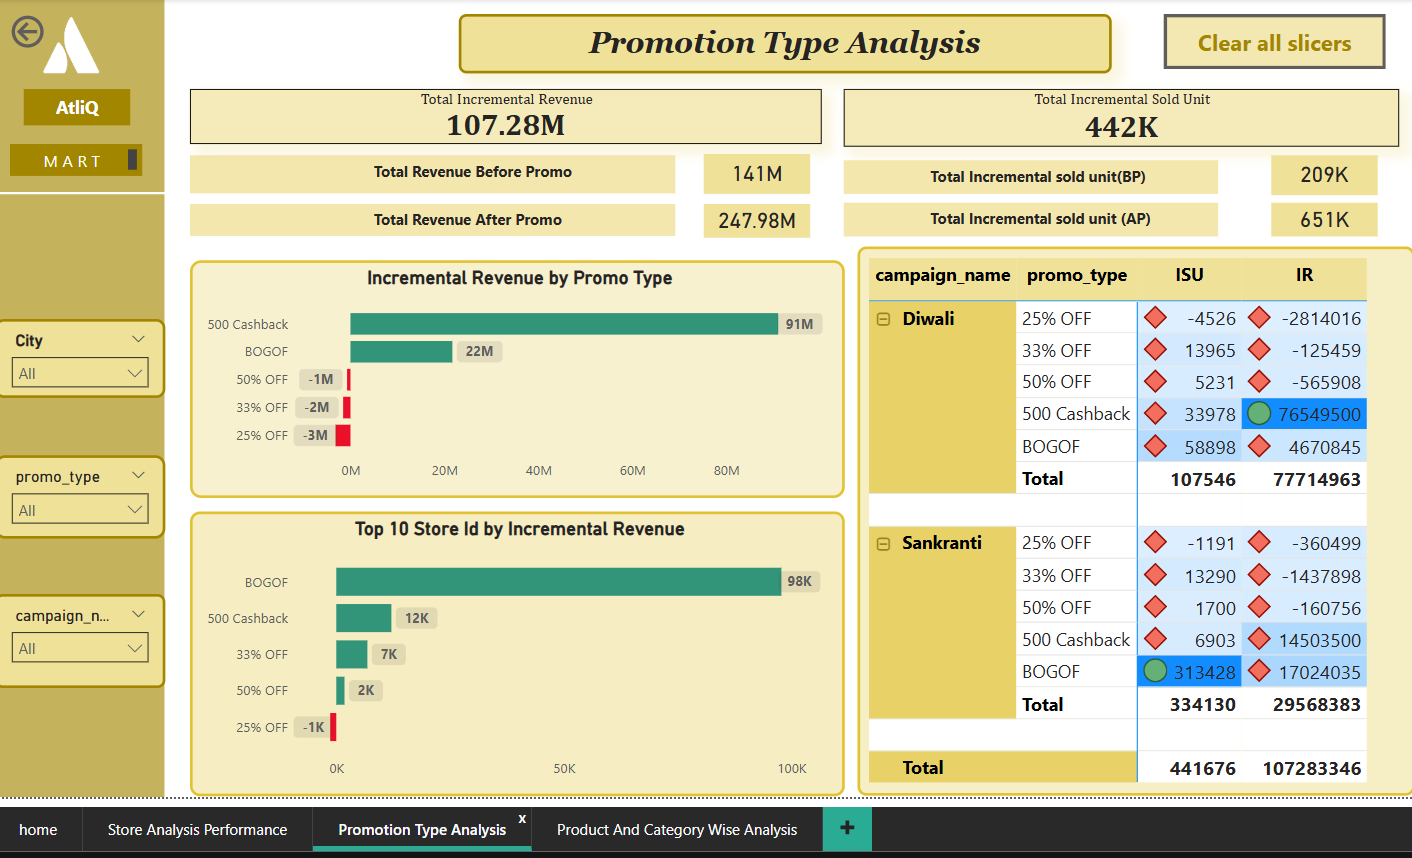

This screenshot's page, from the dashboard's own definition file:
{"tool":"powerbi","page":{"name":"Promotion Type Analysis","canvas":[1280,720],"ordinal":2},"visuals":[{"type":"clusteredBarChart","title":"Incremental Revenue by Promo Type","fields":{"Category":["fact_events.promo_type"],"Y":["Sum(fact_events.IR)"]},"box":[175.6,236,590.1,214.1],"z":0},{"type":"shape","box":[0,0,153,720.3],"z":1000},{"type":"card","fields":{"Values":["Key_Metrics.Revenue BP"]},"box":[639.5,140,96.1,35.7],"z":2000},{"type":"card","fields":{"Values":["Key_Metrics.Revenue AP"]},"box":[639.5,185.2,96.1,30.2],"z":3000},{"type":"card","title":"Total Incremental Revenue","fields":{"Values":["Key_Metrics.Total IR"]},"box":[175.6,81,569.5,49.4],"z":4000},{"type":"textbox","box":[175.6,141.3,437.7,34.3],"z":5000},{"type":"textbox","box":[175.6,185.2,437.7,28.8],"z":6000},{"type":"card","title":"Total Incremental Sold Unit","fields":{"Values":["Key_Metrics.Total Incremental Sold Units"]},"box":[765.7,81,500.9,52.1],"z":7000},{"type":"textbox","box":[765.7,145.5,337.6,30.2],"z":8000},{"type":"textbox","box":[765.7,183.9,337.6,30.2],"z":9000},{"type":"card","fields":{"Values":["Sum(fact_events.quantity_sold(before_promo))"]},"box":[1151.3,141.3,96.1,35.7],"z":10000},{"type":"card","fields":{"Values":["Key_Metrics.Incremental sold(AP)"]},"box":[1151.3,183.9,96.1,30.2],"z":11000},{"type":"barChart","title":"Top  10 Store Id by Incremental Revenue","fields":{"Category":["fact_events.promo_type"],"Y":["Sum(fact_events.ISU)"]},"box":[175.6,462.4,590.1,256.6],"z":12000},{"type":"pivotTable","fields":{"Rows":["dim_campaigns.campaign_name","fact_events.promo_type"],"Values":["Sum(fact_events.ISU)","Sum(fact_events.IR)"]},"box":[778,223.7,502.2,495.4],"z":15000},{"type":"textbox","box":[418.5,13.7,588.7,53.5],"z":17000},{"type":"image","box":[25.6,0,84.8,80.8],"z":18000},{"type":"textbox","box":[26.1,81,96.1,32.9],"z":19000},{"type":"textbox","box":[13.7,130.4,119.4,28.8],"z":20000},{"type":"shape","box":[0,150.9,153.7,48],"z":21000},{"type":"slicer","fields":{"Values":["dim_stores.city"]},"box":[0,288.2,153.7,71.4],"z":22000},{"type":"slicer","fields":{"Values":["fact_events.promo_type"]},"box":[0,411.7,153.7,75.5],"z":23000},{"type":"slicer","fields":{"Values":["dim_campaigns.campaign_name"]},"box":[0,536.5,153.7,85.1],"z":24000}]}

Visuals, with their boxes on the page's 1280x720 design canvas (x1, y1, x2, y2). These are canvas units, not pixel positions in the 1412x858 screenshot, which may show the page scaled, cropped or inside an application window:
"Incremental Revenue by Promo Type" clusteredBarChart: 176, 236, 766, 450
shape: 0, 0, 153, 720
card - Key_Metrics.Revenue BP: 640, 140, 736, 176
card - Key_Metrics.Revenue AP: 640, 185, 736, 215
"Total Incremental Revenue" card: 176, 81, 745, 130
textbox: 176, 141, 613, 176
textbox: 176, 185, 613, 214
"Total Incremental Sold Unit" card: 766, 81, 1267, 133
textbox: 766, 146, 1103, 176
textbox: 766, 184, 1103, 214
card - Sum(fact_events.quantity_sold(before_promo)): 1151, 141, 1247, 177
card - Key_Metrics.Incremental sold(AP): 1151, 184, 1247, 214
"Top  10 Store Id by Incremental Revenue" barChart: 176, 462, 766, 719
pivotTable - dim_campaigns.campaign_name x fact_events.promo_type: 778, 224, 1280, 719
textbox: 418, 14, 1007, 67
image: 26, 0, 110, 81
textbox: 26, 81, 122, 114
textbox: 14, 130, 133, 159
shape: 0, 151, 154, 199
slicer - dim_stores.city: 0, 288, 154, 360
slicer - fact_events.promo_type: 0, 412, 154, 487
slicer - dim_campaigns.campaign_name: 0, 536, 154, 622
